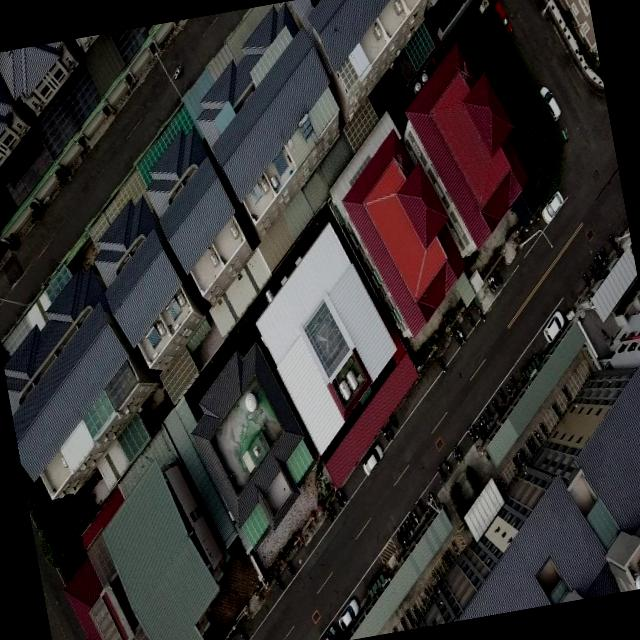car: (538, 71, 566, 131), (333, 594, 364, 640), (356, 440, 388, 478), (540, 308, 570, 346), (537, 188, 567, 223)
